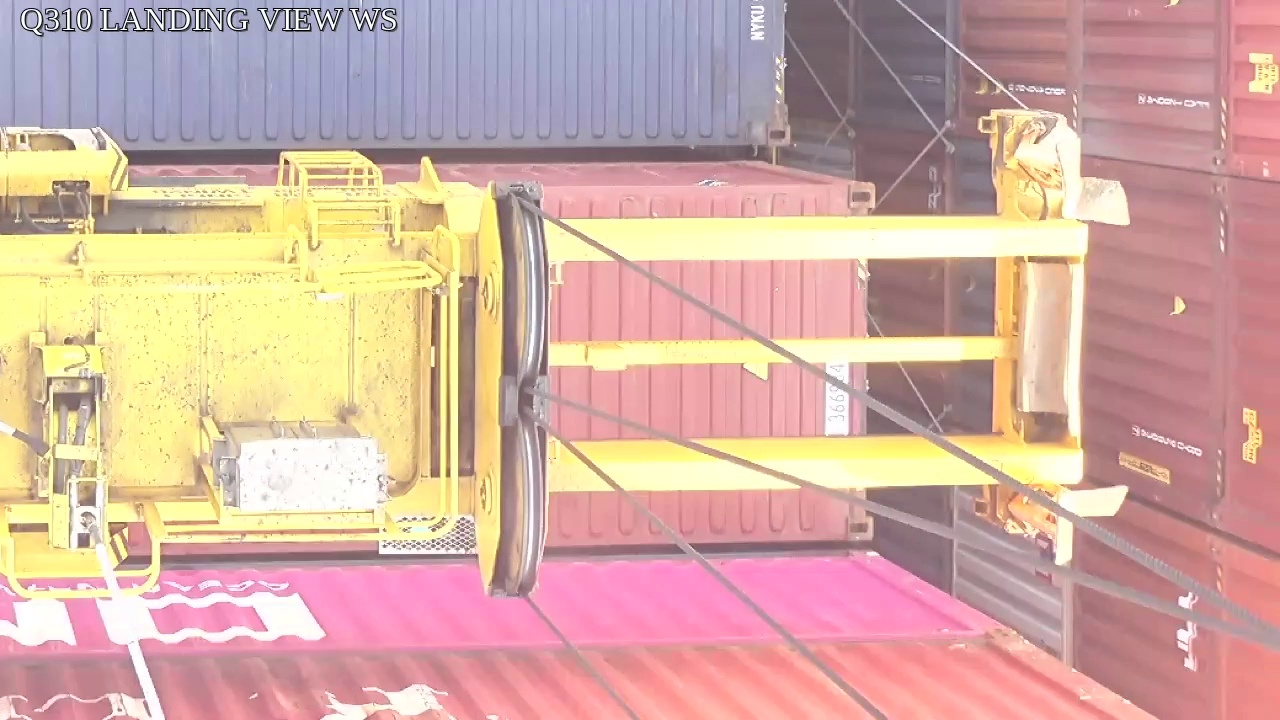right: (474, 180, 553, 598)
